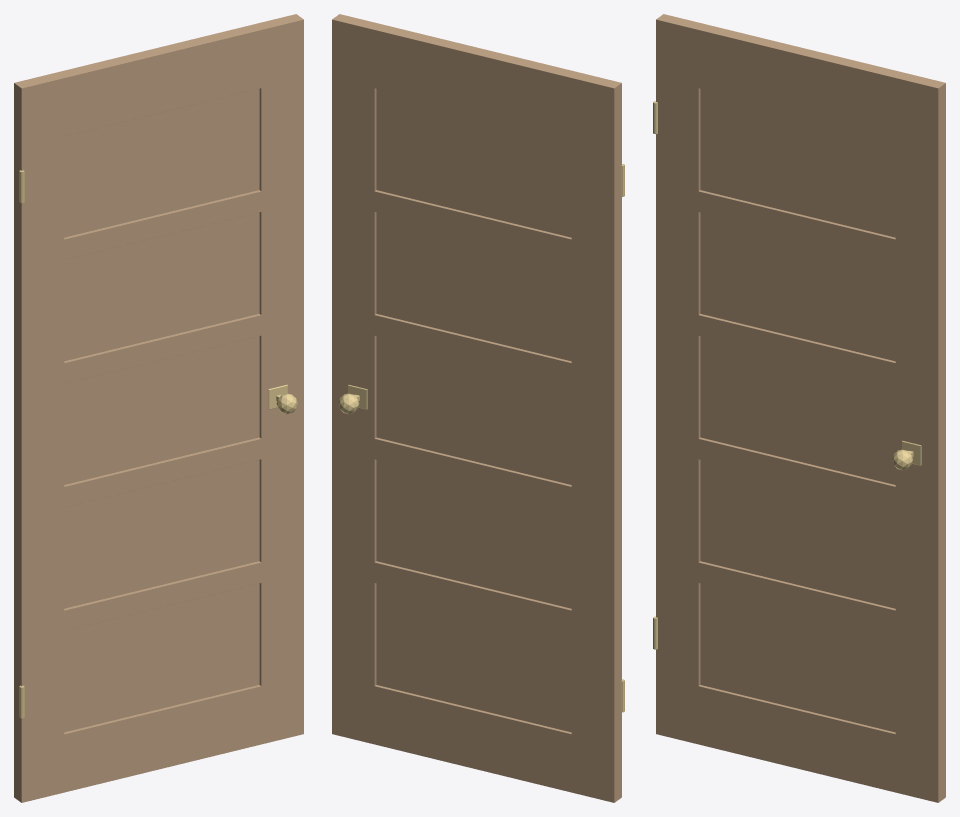
File: door_leaf_int.glb
The picture shows the model from 3 angles, left to right: view 1: azimuth 30°, elevation 25°; view 2: azimuth 150°, elevation 25°; view 3: azimuth 330°, elevation 25°; orthographic projection.
Parts seen in each view (by area): view 1: door_leaf_int_door_int, door_leaf_int_brass; view 2: door_leaf_int_door_int, door_leaf_int_brass; view 3: door_leaf_int_door_int, door_leaf_int_brass.
Boxes of the visible parts, <box> form: door_leaf_int_door_int: <box>14,14,303,802</box>; door_leaf_int_brass: <box>19,170,297,718</box>; door_leaf_int_door_int: <box>332,14,621,802</box>; door_leaf_int_brass: <box>338,164,624,712</box>; door_leaf_int_door_int: <box>656,14,945,802</box>; door_leaf_int_brass: <box>653,101,921,649</box>.
Bounding box in the file's own units: 0.867 × 2.08 × 0.196.
